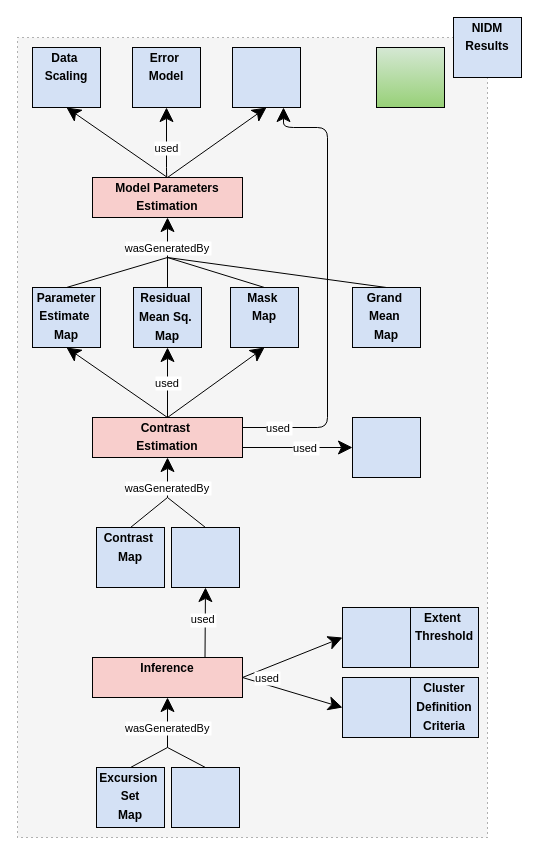
The diagram is 539 pixels wide and 855 high, and some of its shapes have lost their labels. The centre of each missing label's shape, as x and y in pixels:
"Contrast Weight Matrix" goes at point 386,447.
"Design Matrix" goes at point 266,77.
"Height Threshold" goes at point 376,637.
"Peak Definition Criteria" goes at point 376,707.
"Search Space Mask Map" goes at point 205,797.
"Software Agent" goes at point 410,77.
"Statistic Map" goes at point 205,557.
